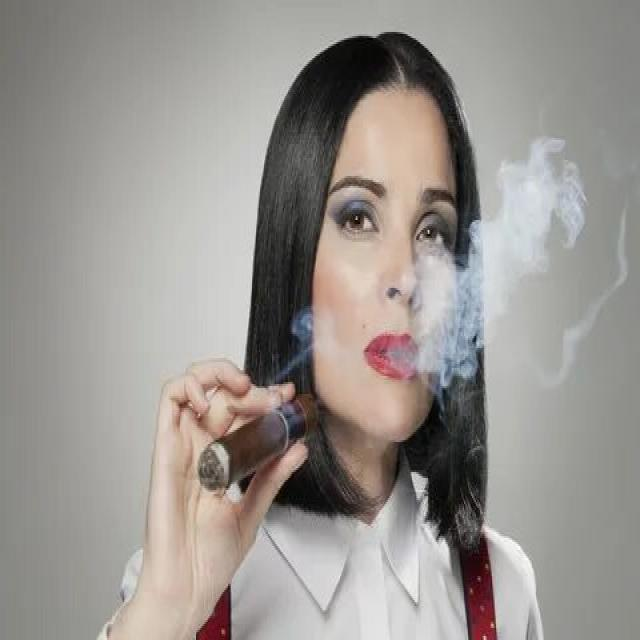cigarette: (194, 390, 322, 498)
